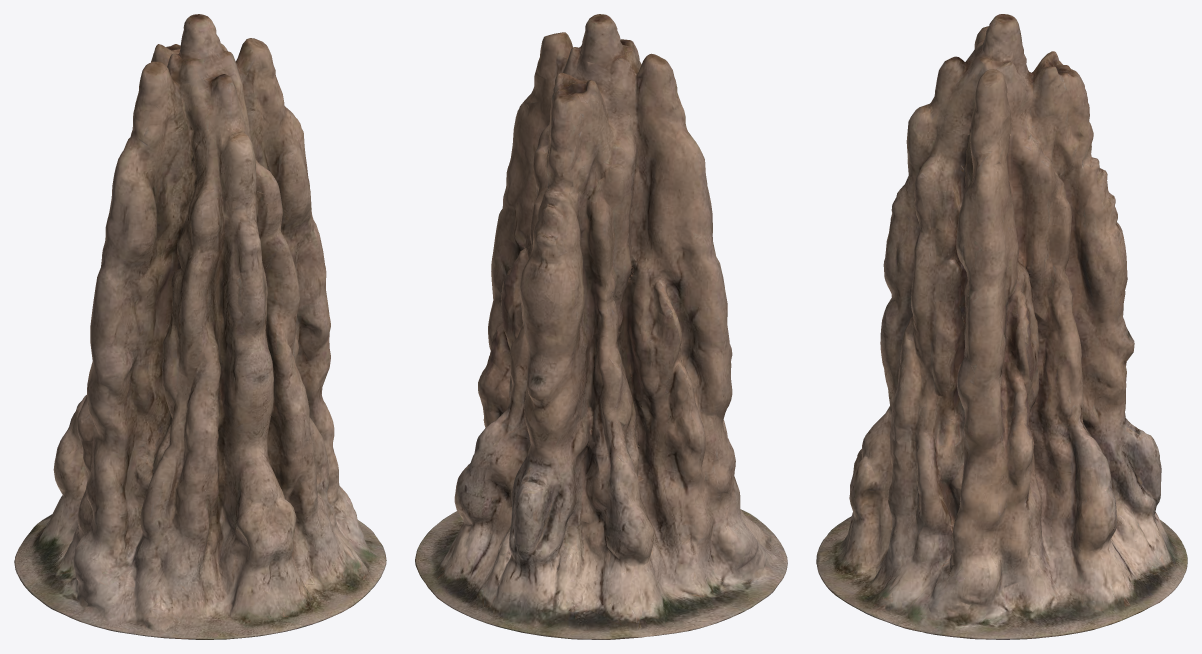
File: termite.glb
3 renders of one model, left to right at view 1: azimuth 30°, elevation 25°; view 2: azimuth 150°, elevation 25°; view 3: azimuth 270°, elevation 25°, orthographic.
Parts seen in each view (by area): view 1: Mesh_0; view 2: Mesh_0; view 3: Mesh_0.
Part boxes in pixels (x1,y1,x2,y2): Mesh_0: [14, 14, 386, 639]; Mesh_0: [415, 14, 787, 639]; Mesh_0: [816, 14, 1187, 639].
Size of the model in its own units: 1.18 by 1.91 by 1.18.
Materials: 1 (1 with a texture image).
